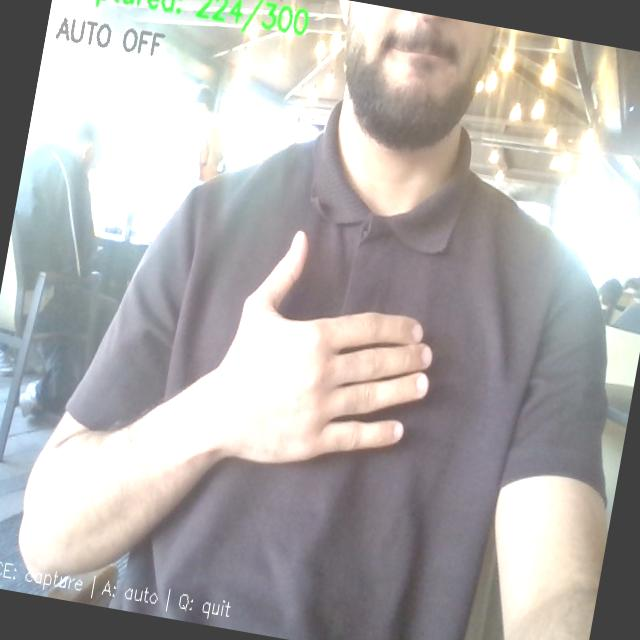Hand: (212, 232, 431, 462)
